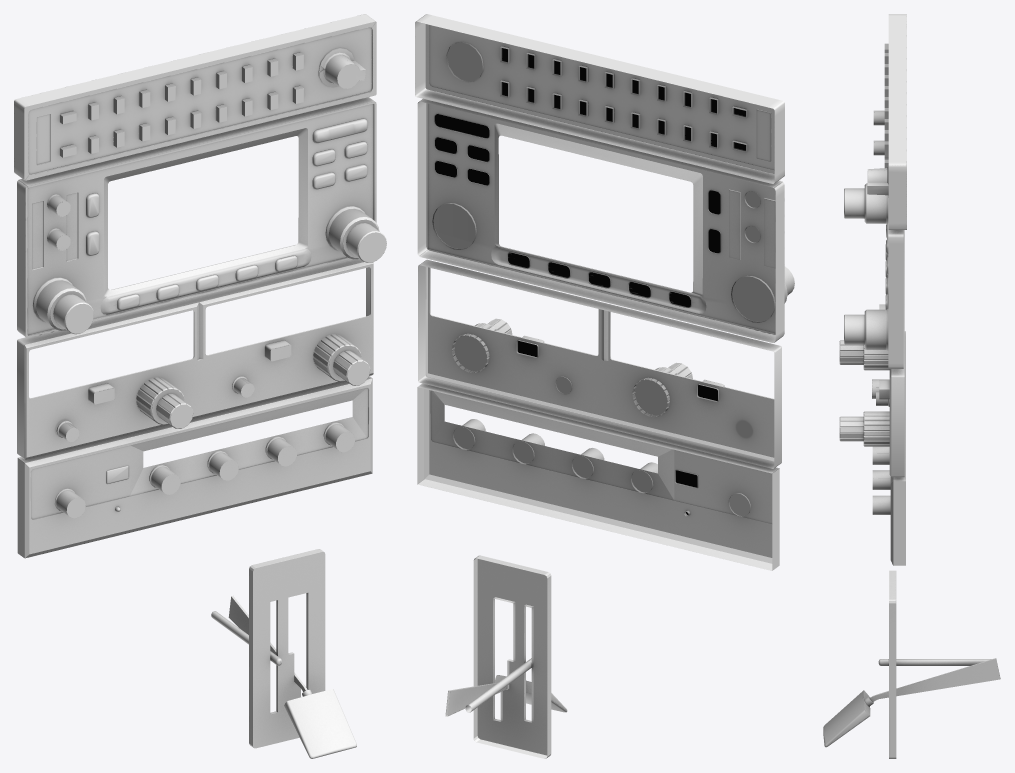
The model's file is radios.fbx.
The picture shows the model from 3 angles, left to right: view 1: azimuth 30°, elevation 25°; view 2: azimuth 150°, elevation 25°; view 3: azimuth 270°, elevation 25°; orthographic projection. The views are drawn at different scales.
Parts seen in each view (by area): view 1: Plane.037, G430, Plane.032, Plane.036, Cube, Cube.014, Plane.033, Cylinder.014, Cylinder.006, Circle.024, Circle.026, Circle.025 (+7 smaller); view 2: G430, Plane.037, Plane.032, Plane.036, Cube, Plane.033, Cube.014, Cylinder.014, Cube.030; view 3: Plane.032, Cube.014, G430, Plane.036, Plane.037, Cube, Cylinder.014, Circle.026, Cylinder.011, Circle.024, Cube.030, Circle.023 (+6 smaller).
Part boxes in pixels (<box>): Plane.037: <box>17,376,372,558</box>; G430: <box>17,97,376,337</box>; Plane.032: <box>14,14,376,180</box>; Plane.036: <box>17,259,373,459</box>; Cube: <box>249,549,325,748</box>; Cube.014: <box>228,596,356,758</box>; Plane.033: <box>88,52,303,153</box>; Cylinder.014: <box>149,422,354,494</box>; Cylinder.006: <box>318,48,365,88</box>; Circle.024: <box>33,277,86,330</box>; Circle.026: <box>325,206,379,259</box>; Circle.025: <box>346,223,386,262</box>; G430: <box>417,99,784,342</box>; Plane.037: <box>417,383,779,570</box>; Plane.032: <box>415,14,784,183</box>; Plane.036: <box>418,259,781,468</box>; Cube: <box>473,555,551,758</box>; Plane.033: <box>500,46,718,148</box>; Cube.014: <box>445,675,567,716</box>; Cylinder.014: <box>453,419,657,493</box>; Cube.030: <box>465,658,531,712</box>; Plane.032: <box>888,14,906,229</box>; Cube.014: <box>823,658,1000,747</box>; G430: <box>887,198,903,368</box>; Plane.036: <box>889,230,904,477</box>; Plane.037: <box>890,331,905,565</box>; Cube: <box>889,570,896,758</box>; Cylinder.014: <box>872,446,890,514</box>; Circle.026: <box>864,309,888,350</box>; Cylinder.011: <box>863,411,889,446</box>; Circle.024: <box>864,183,888,223</box>; Cube.030: <box>878,659,991,665</box>; Circle.023: <box>844,188,864,218</box>.
Size of the model in its own units: 20.2 by 38.24 by 9.96.
1 material, 1 textured.
